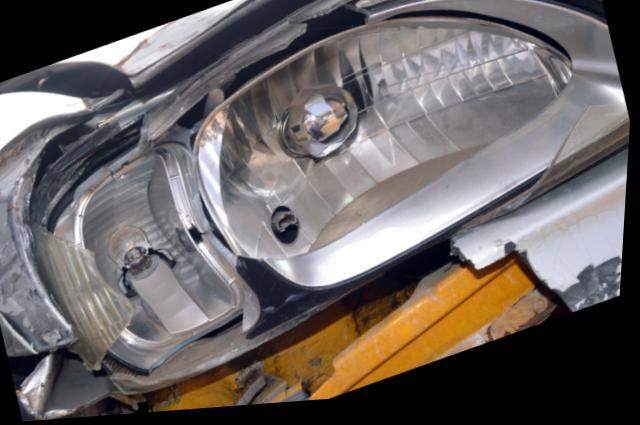lamp broken: (40, 0, 632, 380)
no part: (12, 247, 572, 422)
